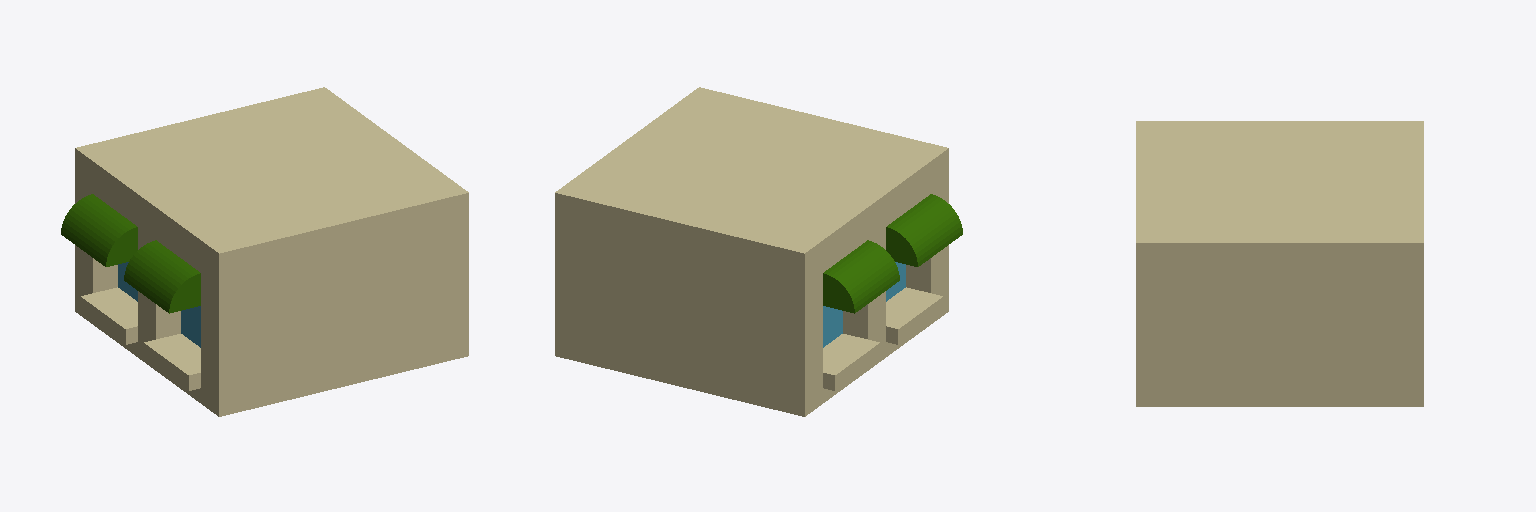
3 views of the same model, side by side, from view 1: azimuth 30°, elevation 25°; view 2: azimuth 150°, elevation 25°; view 3: azimuth 270°, elevation 25° (orthographic).
Parts seen in each view (by area): view 1: G-__555852_G-__555852_Brick, G-__555852_G-__555852_[Green], G-__555852_G-__555852_Glass; view 2: G-__555852_G-__555852_Brick, G-__555852_G-__555852_[Green], G-__555852_G-__555852_Glass; view 3: G-__555852_G-__555852_Brick.
Boxes of the visible parts, <box> form: G-__555852_G-__555852_Brick: <box>75,87,468,416</box>; G-__555852_G-__555852_[Green]: <box>61,194,200,313</box>; G-__555852_G-__555852_Glass: <box>118,262,200,347</box>; G-__555852_G-__555852_Brick: <box>555,87,948,416</box>; G-__555852_G-__555852_[Green]: <box>823,194,962,313</box>; G-__555852_G-__555852_Glass: <box>823,262,905,347</box>; G-__555852_G-__555852_Brick: <box>1136,121,1423,406</box>.
Size of the model in its own units: 1.13 by 0.625 by 1.